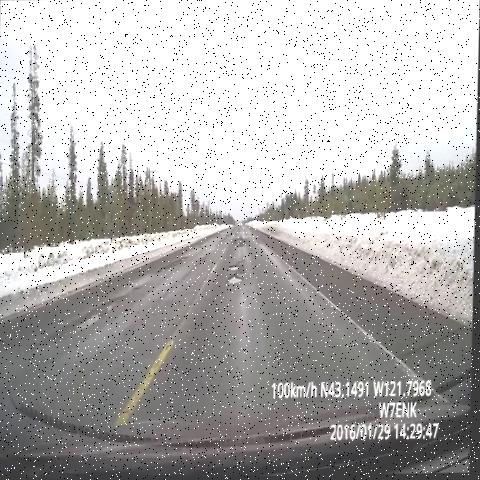pothole: (38, 287, 137, 374), (151, 253, 189, 282), (227, 256, 254, 290), (229, 235, 251, 256)
